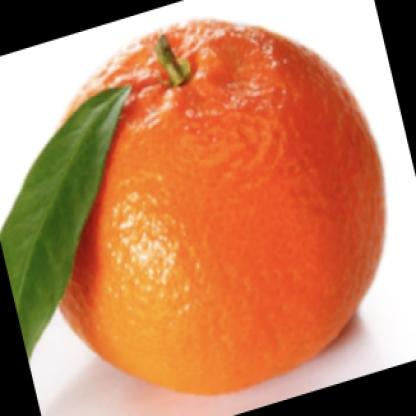fresh: (51, 20, 386, 396)
